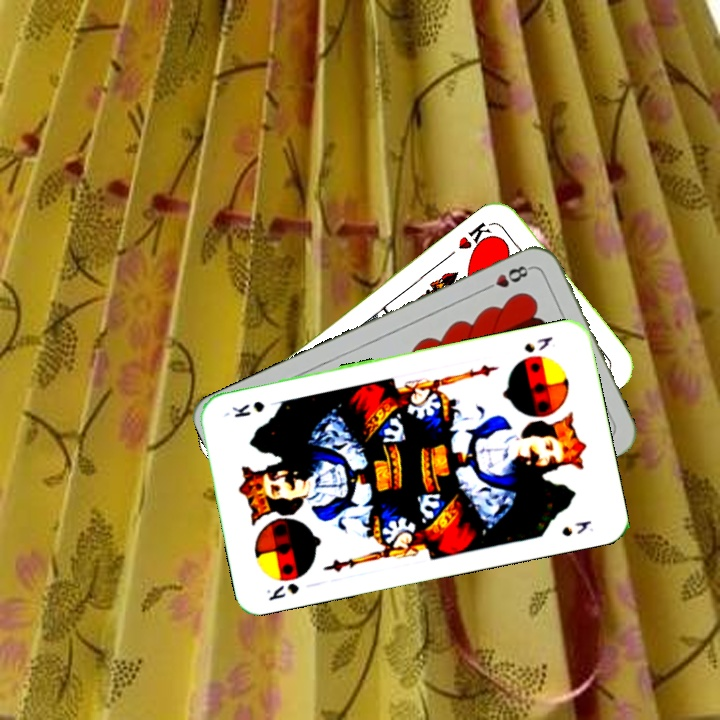H8: (479, 261, 534, 294)
HK: (454, 217, 499, 257)
SK: (263, 579, 301, 604), (520, 332, 555, 355)
